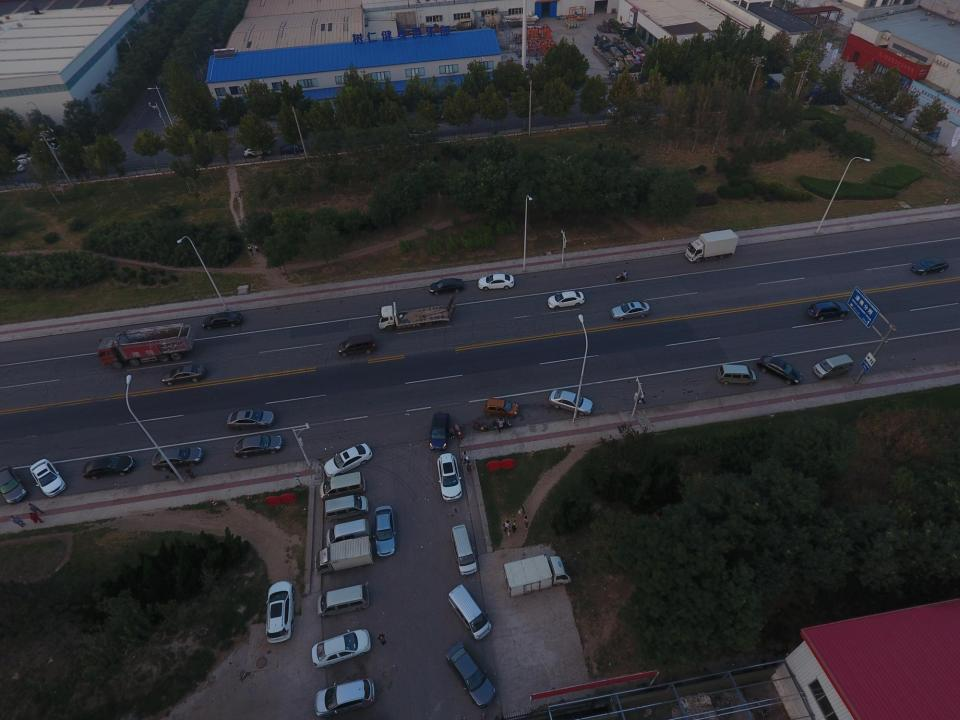car: (446, 641, 496, 707), (313, 629, 371, 669), (314, 678, 374, 714), (266, 580, 294, 644), (324, 443, 372, 476), (30, 458, 65, 496), (82, 454, 134, 479), (437, 452, 462, 502), (152, 446, 203, 469), (762, 354, 801, 384), (373, 504, 395, 557), (550, 389, 592, 416), (0, 464, 25, 505), (233, 436, 282, 456), (228, 409, 274, 429), (807, 300, 849, 321), (160, 366, 204, 386), (338, 332, 375, 354), (548, 290, 584, 310), (611, 302, 650, 320), (202, 311, 243, 328), (430, 412, 448, 450), (911, 258, 948, 276), (478, 273, 514, 290), (485, 398, 519, 416), (428, 278, 463, 294), (607, 104, 637, 118), (279, 141, 307, 155), (408, 125, 436, 139), (243, 144, 272, 157), (1, 160, 25, 174), (926, 124, 942, 144), (11, 153, 37, 164), (894, 103, 908, 121), (855, 84, 868, 103), (881, 97, 895, 114)
truck: (98, 325, 196, 366), (504, 555, 570, 597), (376, 304, 452, 330), (316, 537, 371, 571), (686, 230, 736, 262), (913, 109, 930, 134)
van: (448, 585, 490, 640), (318, 585, 368, 616), (451, 524, 478, 577), (319, 471, 366, 500), (329, 518, 371, 547), (323, 496, 368, 521), (813, 354, 854, 378), (719, 365, 757, 386)
